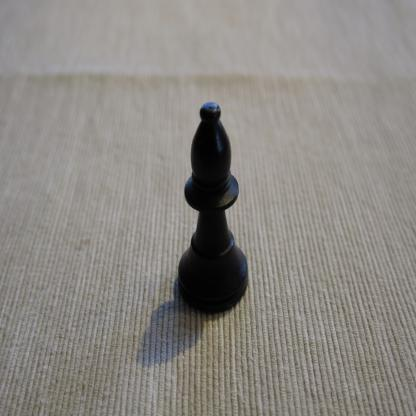black-bishop: (178, 100, 250, 316)
